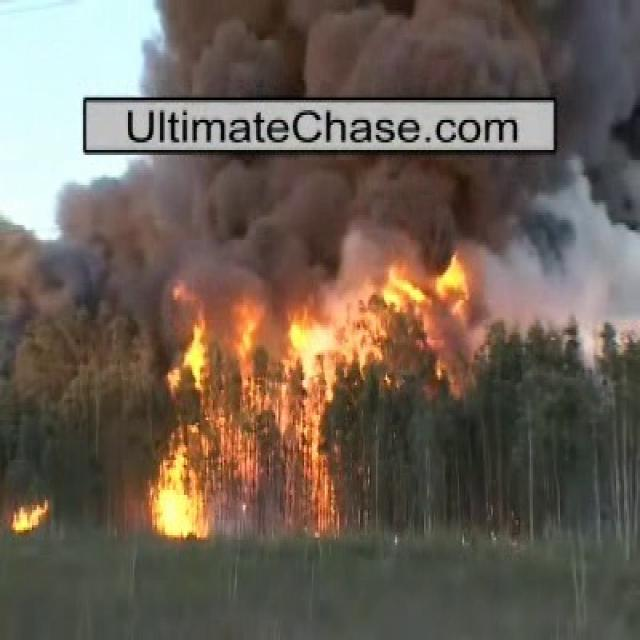fire: (186, 331, 346, 544)
smoke: (171, 6, 632, 276)
